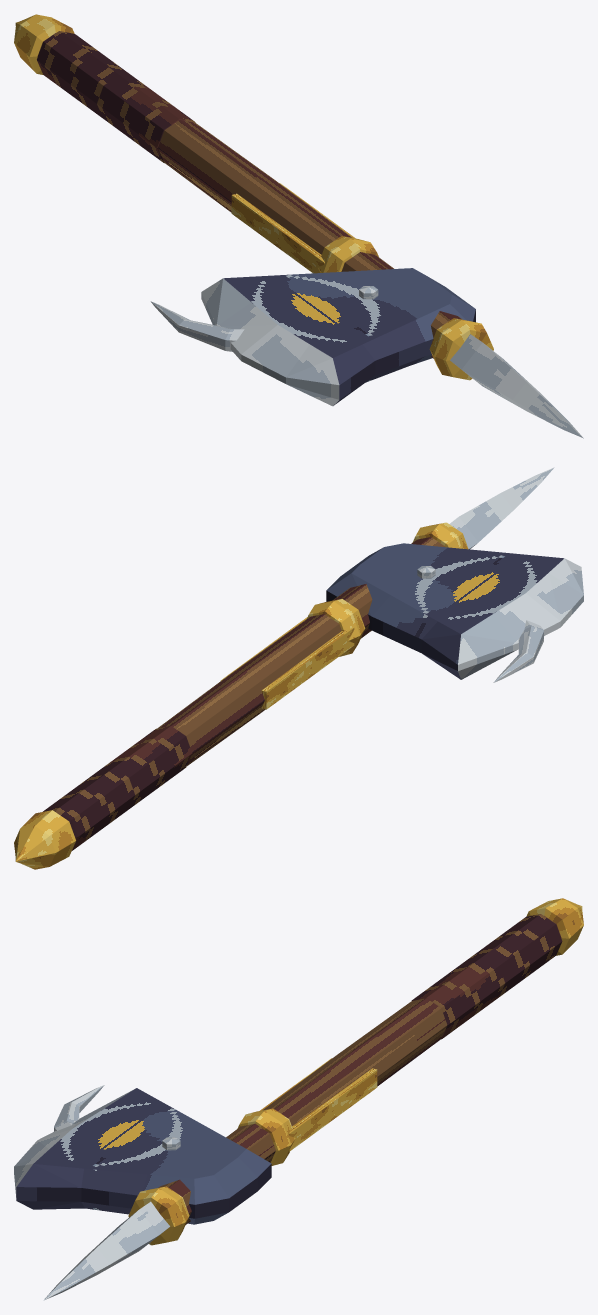
Rendered from axt-c-pfahlaxt.glb.
3 renders of one model, top to bottom at view 1: azimuth 30°, elevation 25°; view 2: azimuth 150°, elevation 25°; view 3: azimuth 330°, elevation 25°, orthographic. The views are drawn at different scales.
Visible parts, largest first — view 1: axe; view 2: axe; view 3: axe.
Boxes of the visible parts, x1,y1,x2,y2 form: axe: [14, 14, 583, 438]; axe: [14, 467, 583, 869]; axe: [14, 898, 583, 1300].
Bounding box in the file's own units: 0.2116 × 0.056 × 0.8838.
Materials: 1 (1 with a texture image).
